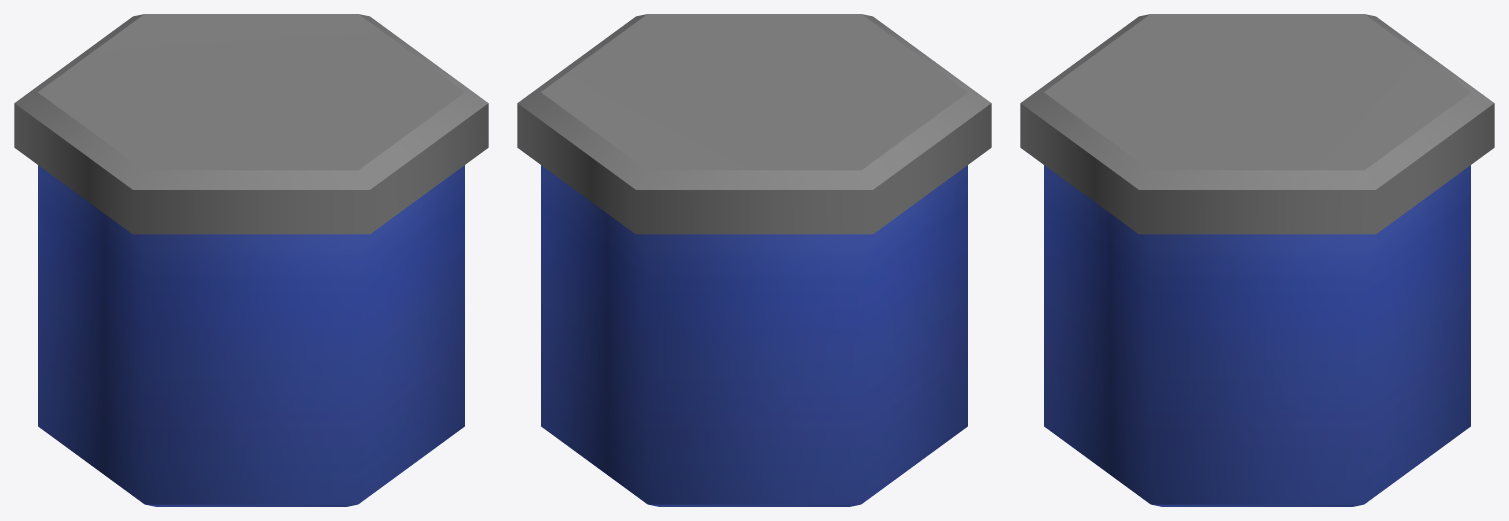
File: Jar_2_E.fbx
3 views of the same model, side by side, from view 1: azimuth 30°, elevation 25°; view 2: azimuth 150°, elevation 25°; view 3: azimuth 270°, elevation 25° (orthographic).
Parts seen in each view (by area): view 1: Jar_2_E; view 2: Jar_2_E; view 3: Jar_2_E.
Part boxes in pixels (<box>): Jar_2_E: <box>14,14,488,506</box>; Jar_2_E: <box>517,14,991,506</box>; Jar_2_E: <box>1020,14,1494,506</box>.
Size of the model in its own units: 17.99 by 16.69 by 20.77.
